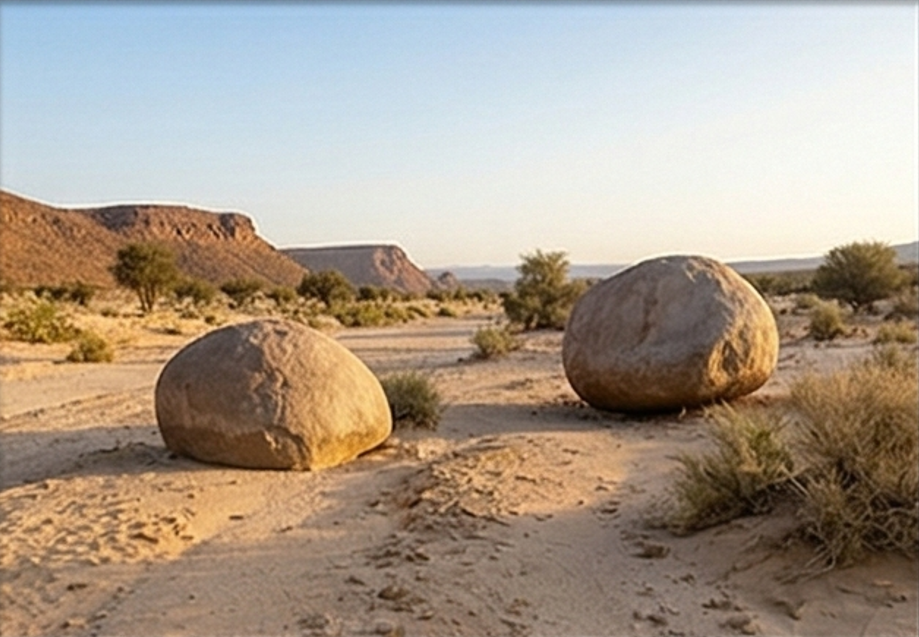rocks: (155, 319, 392, 470), (563, 255, 779, 410)
